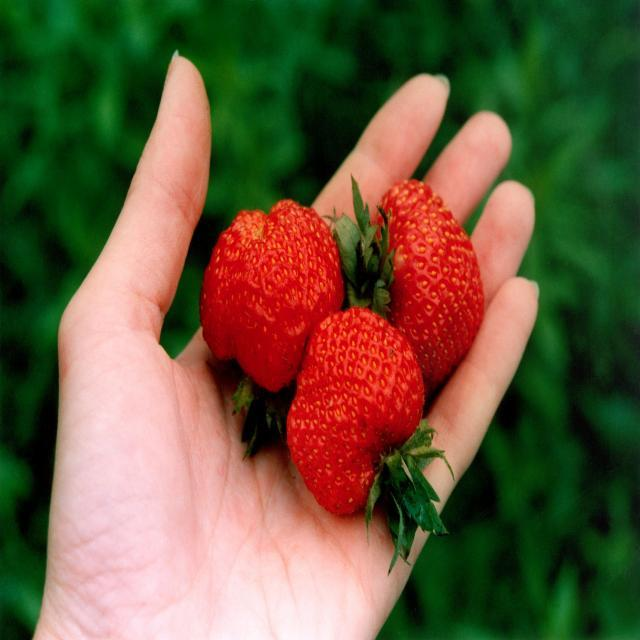ripe: (290, 307, 428, 528), (198, 200, 346, 402), (359, 178, 496, 388)
